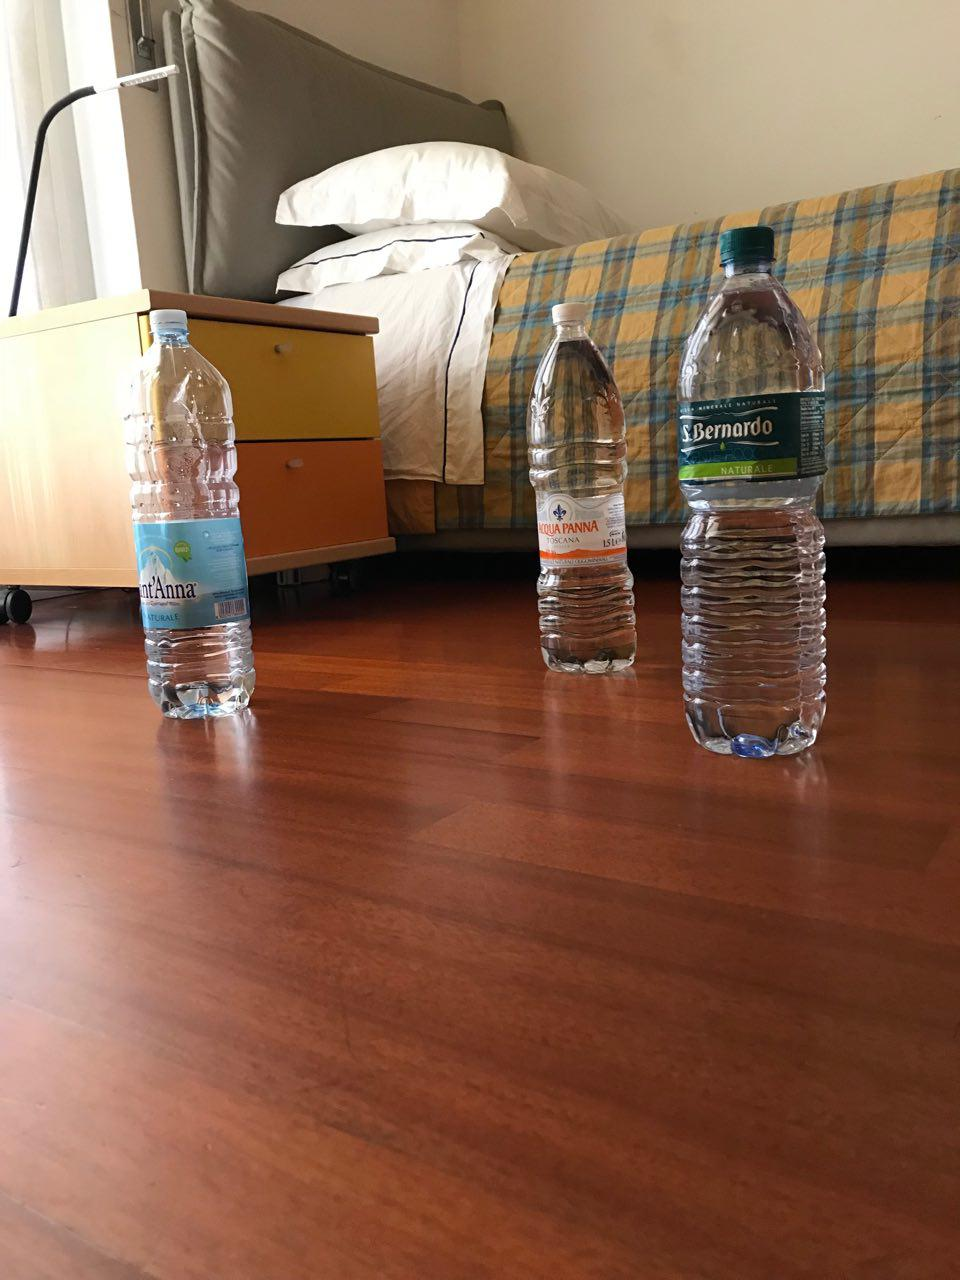san_bernardo: (675, 225, 828, 759)
